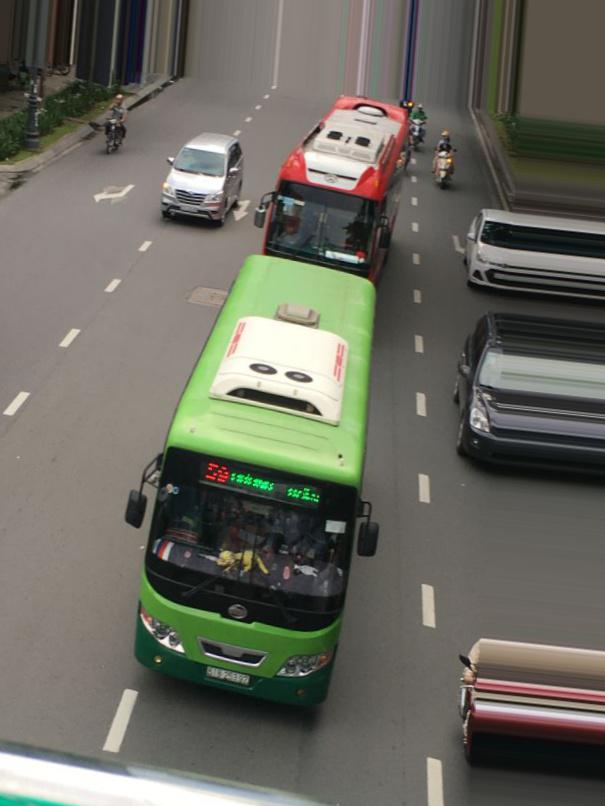bus: (116, 245, 383, 722), (266, 95, 415, 282)
car: (159, 133, 248, 229)
motorbike: (434, 148, 455, 185), (107, 118, 128, 152)
